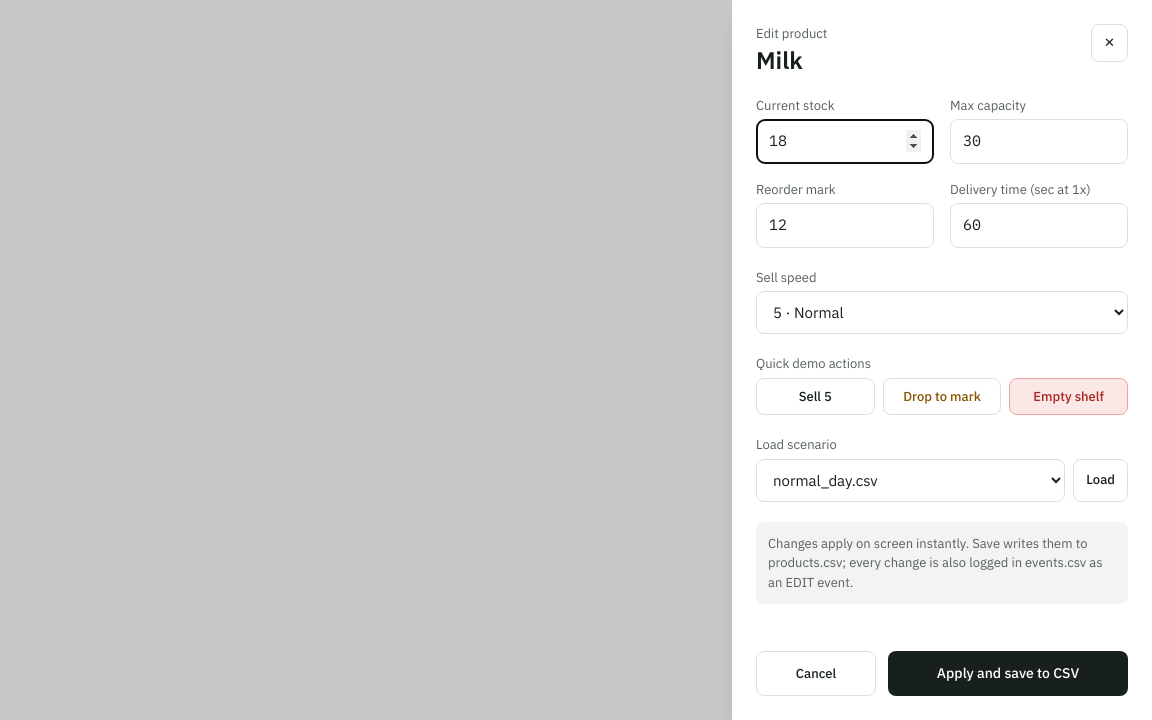
EditDrawer › shows validation errors inline and stays open
This screenshot has width=1152, height=720.
Replace the text in the number field labelled "Reorder mark" with "30" at (845, 225), box [756,203,934,248]
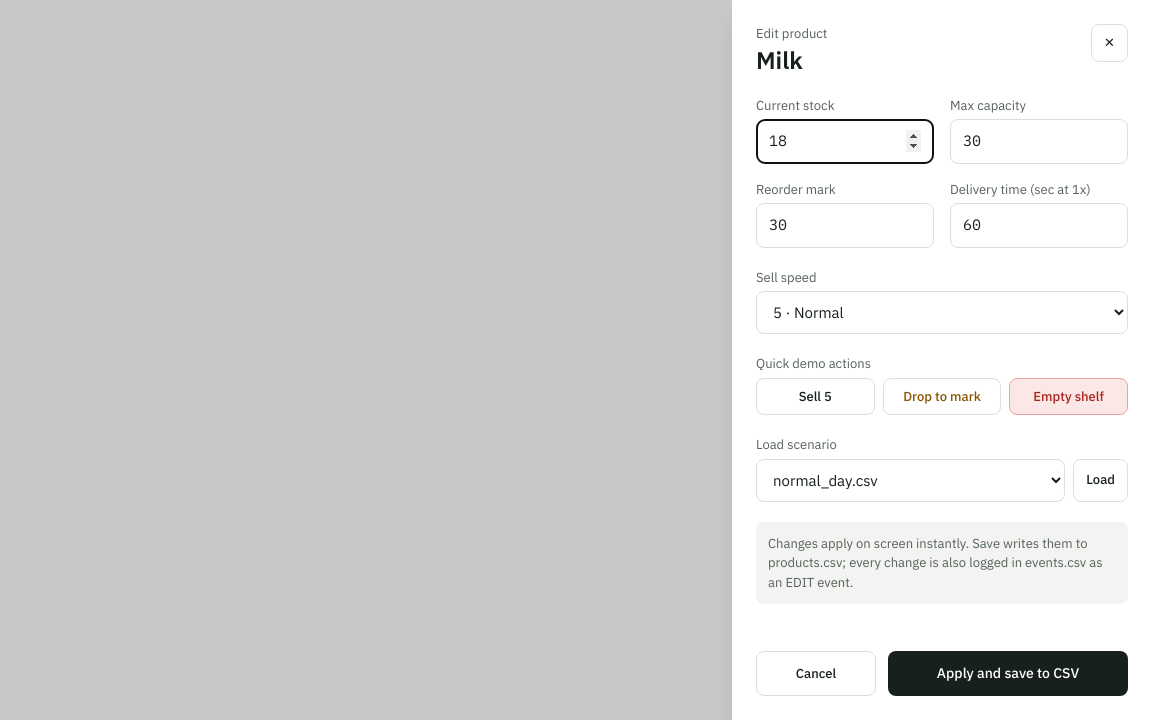
Click the button "Apply and save to CSV" at (1008, 673), box [888,650,1128,696]
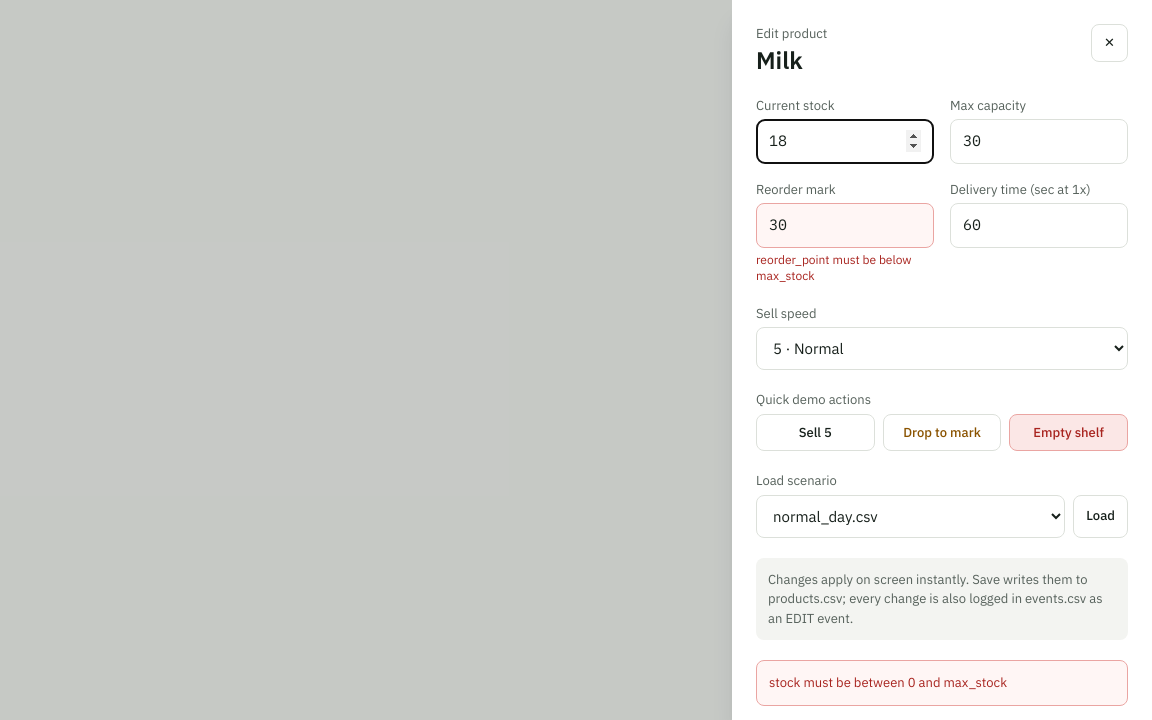
Now the text "reorder_point must be below max_stock" is shown, box [756,252,934,284]
Now the message reads "stock must be between 0 and max_stock", box [769,674,1007,691]
